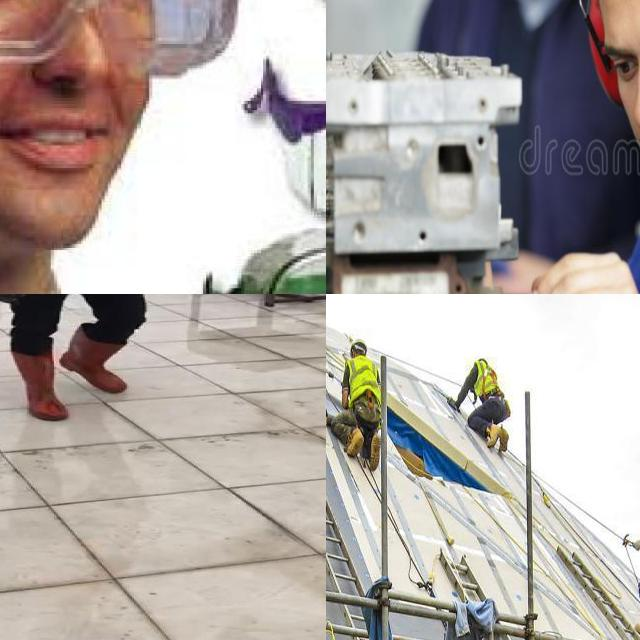No_Glasses: (612, 0, 640, 105)
boots: (61, 326, 129, 392), (10, 352, 70, 420), (344, 427, 364, 459), (370, 436, 384, 470), (498, 429, 513, 453), (486, 427, 501, 449)
face_nomask: (0, 0, 153, 196)
glasses: (0, 0, 241, 75)
head_helmet: (348, 334, 371, 356)
person: (517, 0, 640, 294), (0, 294, 170, 421), (442, 334, 523, 462), (334, 324, 394, 474)
vest: (343, 359, 385, 408), (467, 364, 504, 396)
